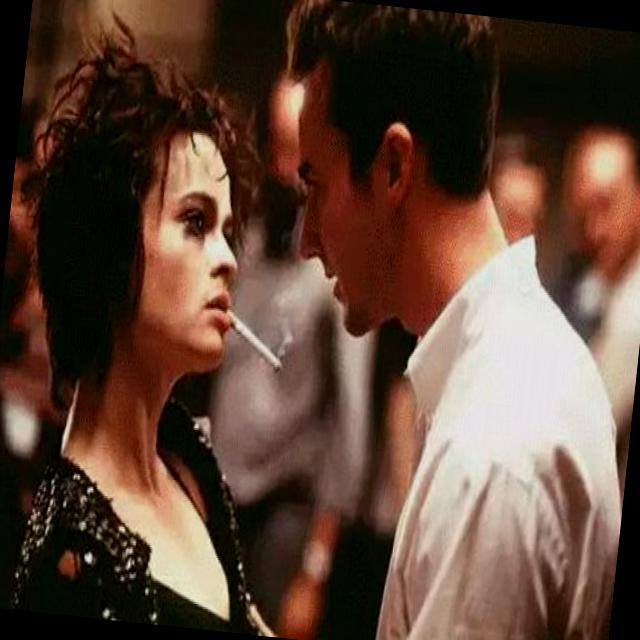cigarette: (208, 293, 302, 384)
